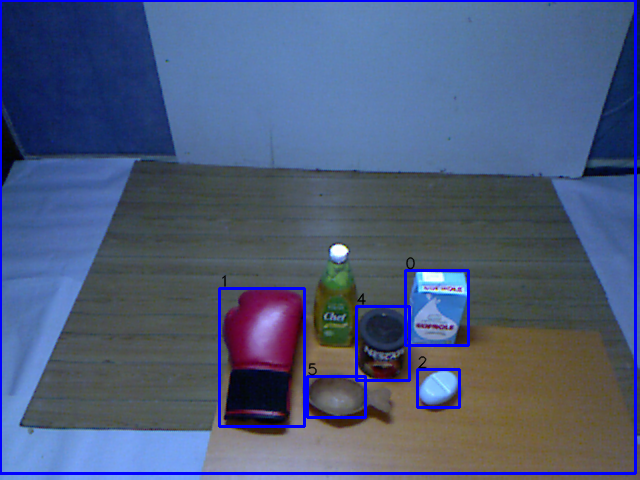aceite: (309, 241, 364, 350)
cafe: (351, 305, 414, 385)
guante: (215, 282, 306, 433)
jabon: (411, 368, 464, 411)
leche: (404, 269, 470, 352)
pescado: (298, 370, 395, 427)
